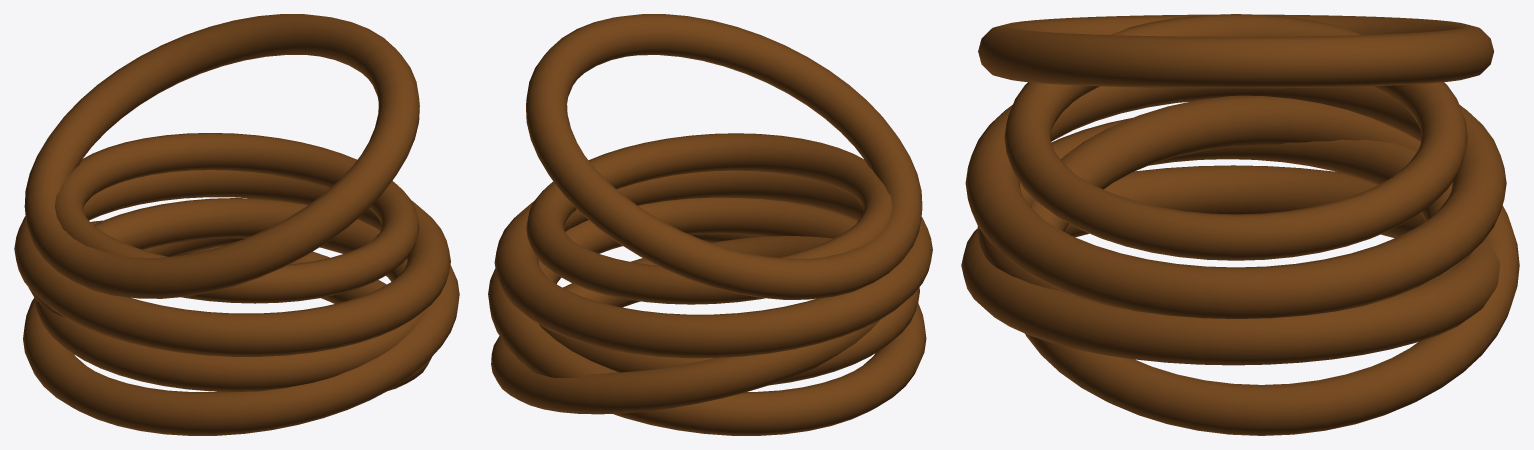
The model's file is ropes.fbx.
3 renders of one model, left to right at view 1: azimuth 30°, elevation 25°; view 2: azimuth 150°, elevation 25°; view 3: azimuth 270°, elevation 25°, orthographic. The views are drawn at different scales.
Visible parts, largest first — view 1: Torus.005; view 2: Torus.005; view 3: Torus.005.
Boxes of the visible parts, bbox=[...] form: Torus.005: bbox=[14, 14, 459, 435]; Torus.005: bbox=[488, 14, 932, 435]; Torus.005: bbox=[961, 14, 1519, 435].
Size of the model in its own units: 46.1 by 34.93 by 46.72.
